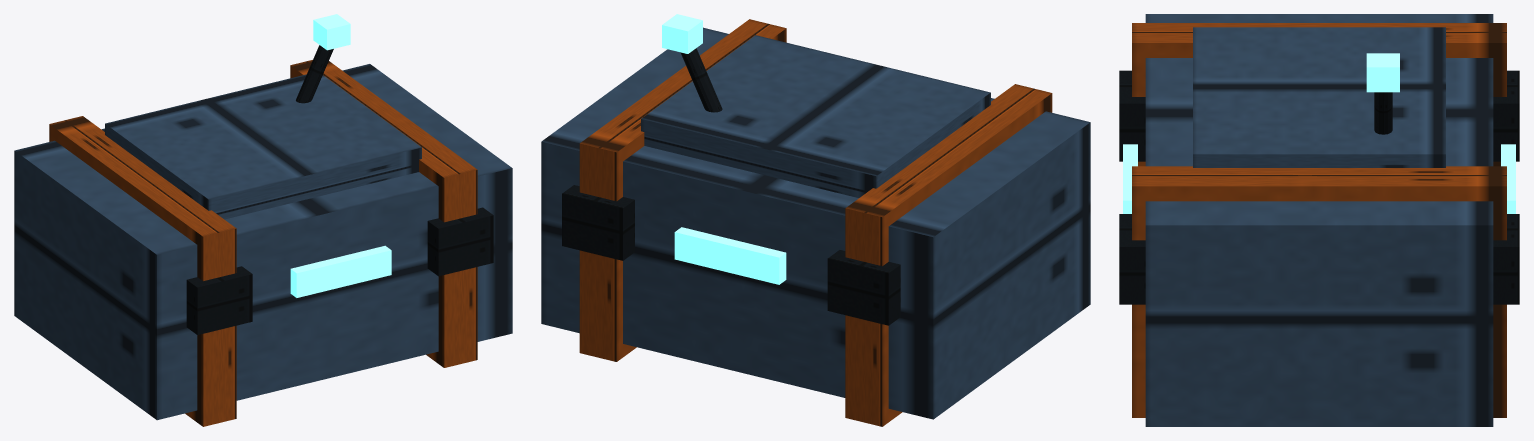
File: capsula-de-saque.glb
The picture shows the model from 3 angles, left to right: view 1: azimuth 30°, elevation 25°; view 2: azimuth 150°, elevation 25°; view 3: azimuth 270°, elevation 25°; orthographic projection. The views are drawn at different scales.
Visible parts, largest first — view 1: Cápsula de carga, Tampa blindada, Cinta de impacto, Cinta de impacto.001, Trava.002, Trava, Indicador, Pulso de localização, Antena de localização; view 2: Cápsula de carga, Tampa blindada, Cinta de impacto, Cinta de impacto.001, Trava.001, Trava.003, Indicador.001, Pulso de localização, Antena de localização; view 3: Cápsula de carga, Tampa blindada, Cinta de impacto.001, Cinta de impacto, Trava.002, Trava.003, Trava, Trava.001, Pulso de localização, Antena de localização, Indicador, Indicador.001.
Part boxes in pixels (x1=…): Cápsula de carga: x1=14, y1=64, x2=512, y2=420; Tampa blindada: x1=105, y1=74, x2=421, y2=219; Cinta de impacto: x1=49, y1=116, x2=236, y2=426; Cinta de impacto.001: x1=290, y1=60, x2=477, y2=367; Trava.002: x1=427, y1=207, x2=493, y2=276; Trava: x1=186, y1=266, x2=252, y2=334; Indicador: x1=290, y1=245, x2=391, y2=297; Pulso de localização: x1=313, y1=14, x2=350, y2=50; Antena de localização: x1=296, y1=45, x2=333, y2=103; Cápsula de carga: x1=541, y1=27, x2=1090, y2=419; Tampa blindada: x1=641, y1=35, x2=990, y2=197; Cinta de impacto: x1=845, y1=84, x2=1052, y2=426; Cinta de impacto.001: x1=579, y1=19, x2=786, y2=361; Trava.001: x1=827, y1=250, x2=900, y2=325; Trava.003: x1=562, y1=185, x2=634, y2=260; Indicador.001: x1=674, y1=227, x2=786, y2=284; Pulso de localização: x1=662, y1=14, x2=702, y2=53; Antena de localização: x1=680, y1=48, x2=722, y2=112; Cápsula de carga: x1=1145, y1=14, x2=1493, y2=426; Tampa blindada: x1=1193, y1=27, x2=1445, y2=167; Cinta de impacto.001: x1=1132, y1=166, x2=1506, y2=417; Cinta de impacto: x1=1132, y1=23, x2=1506, y2=166; Trava.002: x1=1119, y1=214, x2=1145, y2=304; Trava.003: x1=1493, y1=214, x2=1519, y2=304; Trava: x1=1119, y1=70, x2=1145, y2=161; Trava.001: x1=1493, y1=70, x2=1519, y2=161; Pulso de localização: x1=1366, y1=53, x2=1399, y2=92; Antena de localização: x1=1374, y1=92, x2=1392, y2=134; Indicador: x1=1123, y1=144, x2=1137, y2=213; Indicador.001: x1=1501, y1=144, x2=1515, y2=213.
Bounding box in the file's own units: 1.8 × 1.32 × 1.44.
Materials: 4 (3 with a texture image).
